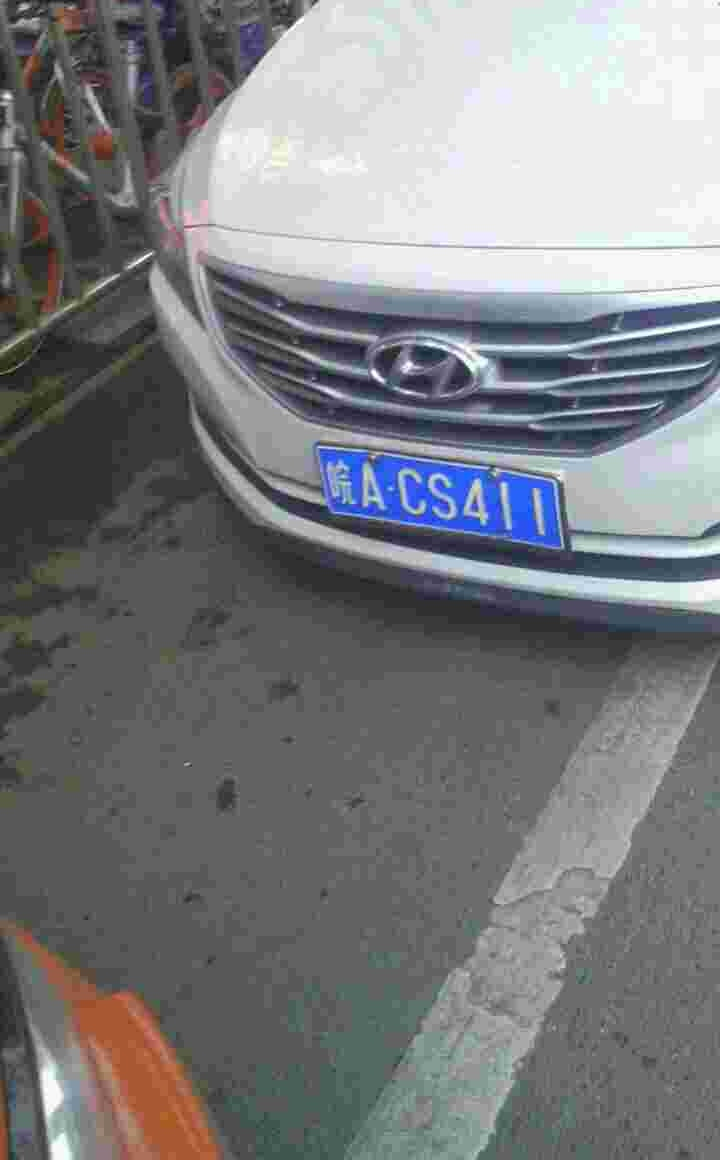license_plate: (313, 453, 569, 529)
